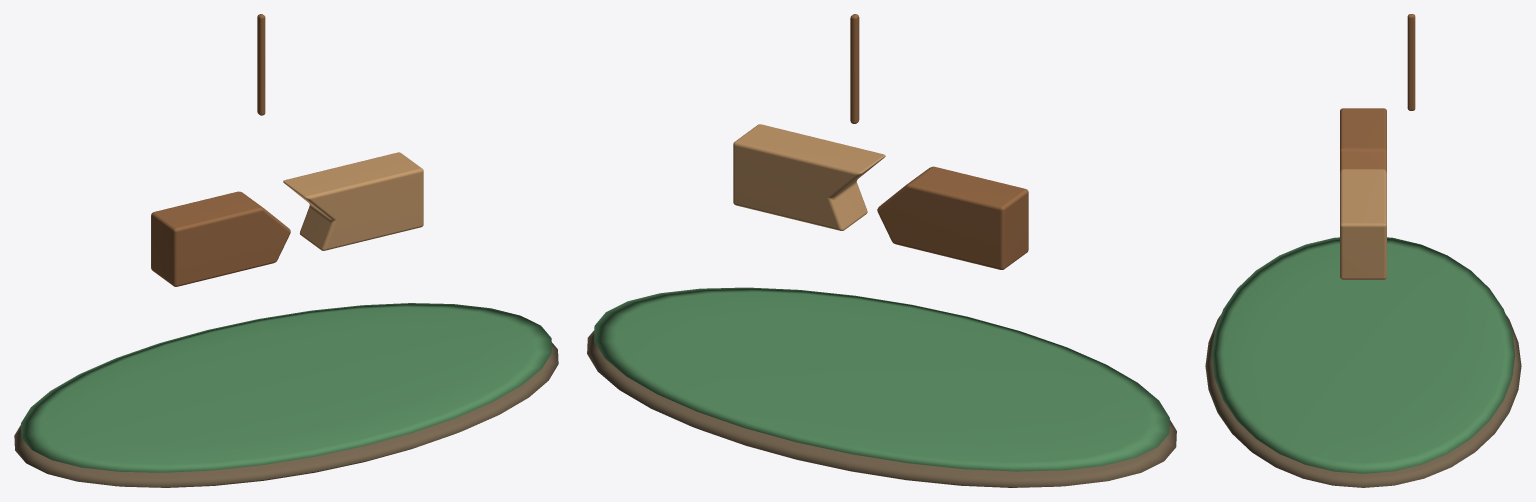
File: complete-third-collapsed-standing.glb
3 views of the same model, side by side, from view 1: azimuth 30°, elevation 25°; view 2: azimuth 150°, elevation 25°; view 3: azimuth 270°, elevation 25° (orthographic). The views are drawn at different scales.
Parts seen in each view (by area): view 1: complete-third-collapsed-standing_surface_01, complete-third-collapsed-standing_surface_02, complete-third-collapsed-standing_surface_03, complete-third-collapsed-standing_surface_00; view 2: complete-third-collapsed-standing_surface_01, complete-third-collapsed-standing_surface_02, complete-third-collapsed-standing_surface_03, complete-third-collapsed-standing_surface_00; view 3: complete-third-collapsed-standing_surface_01, complete-third-collapsed-standing_surface_00, complete-third-collapsed-standing_surface_03, complete-third-collapsed-standing_surface_02.
Part boxes in pixels (x1,y1,x2,y2): complete-third-collapsed-standing_surface_01: (21,303,551,472); complete-third-collapsed-standing_surface_02: (151,14,290,286); complete-third-collapsed-standing_surface_03: (283,152,423,250); complete-third-collapsed-standing_surface_00: (14,343,558,487); complete-third-collapsed-standing_surface_01: (594,287,1169,471); complete-third-collapsed-standing_surface_02: (850,14,1028,269); complete-third-collapsed-standing_surface_03: (733,124,885,230); complete-third-collapsed-standing_surface_00: (587,330,1176,487); complete-third-collapsed-standing_surface_01: (1211,237,1515,473); complete-third-collapsed-standing_surface_00: (1205,315,1521,487); complete-third-collapsed-standing_surface_03: (1340,169,1386,279); complete-third-collapsed-standing_surface_02: (1340,14,1415,172).
Bounding box in the file's own units: 4.56 × 3.2 × 2.5.
